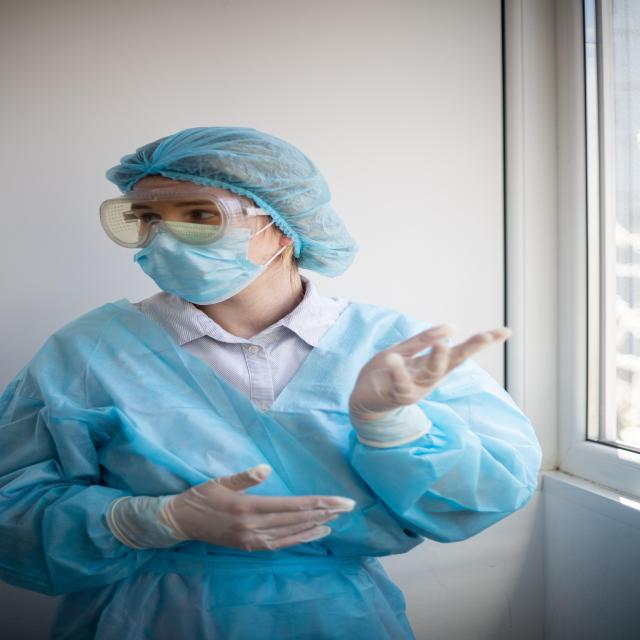Gloves: (109, 460, 357, 561), (353, 320, 518, 452)
Goggles: (96, 197, 253, 245)
Mask: (131, 228, 265, 306)
